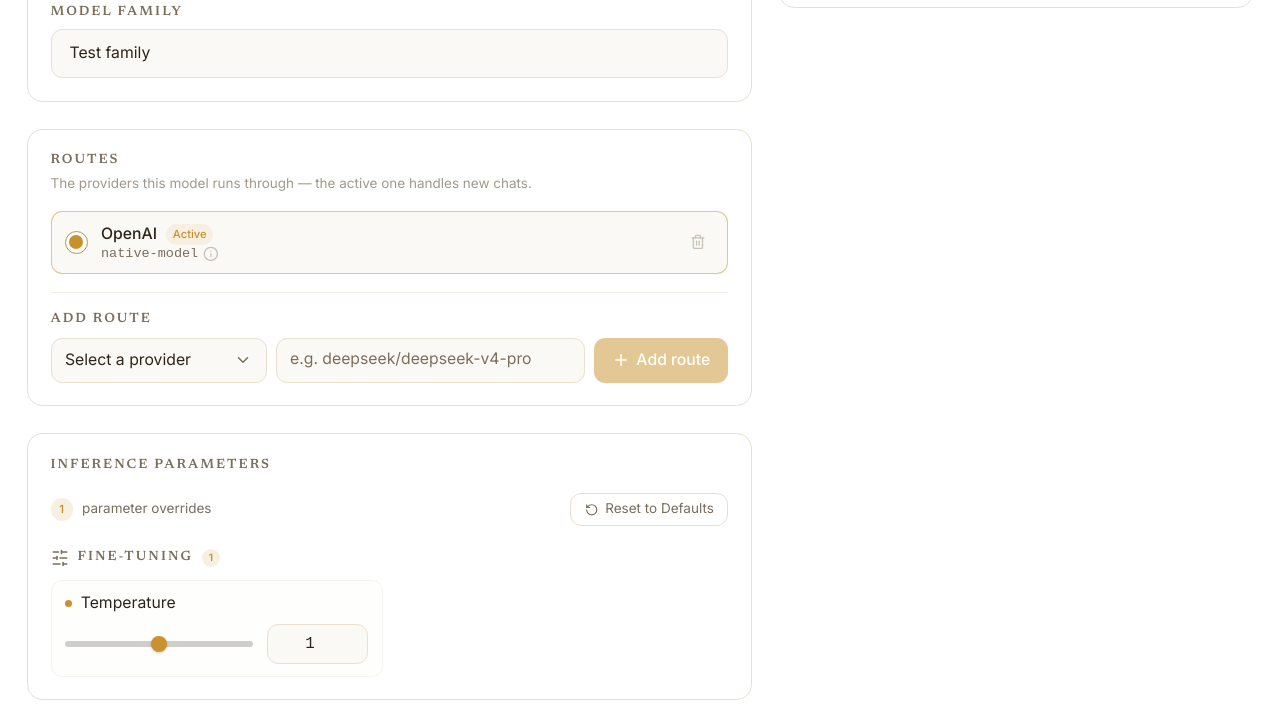
Test: model settings screen › family changes clear an incompatible pending route provider
(page scrolled)
Step 1. Click the button "Select a provider" → click(158, 360), box 50,338 -> 266,383
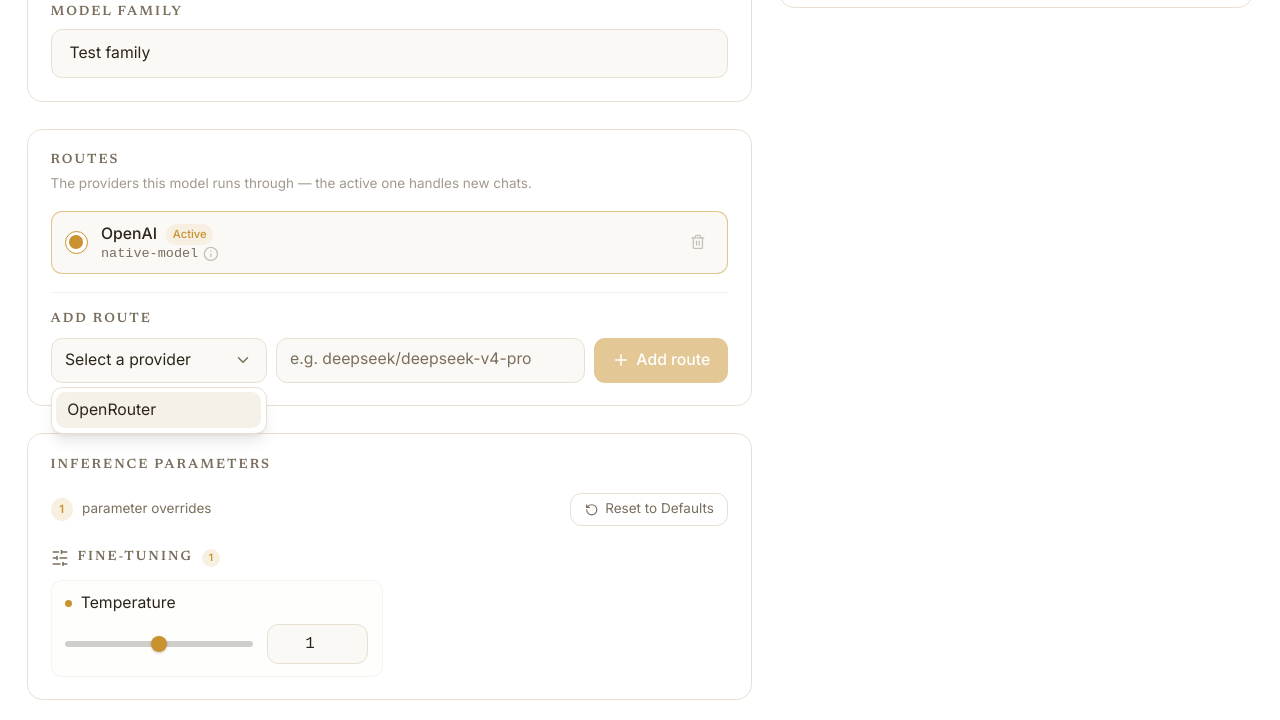
Step 2. Click the option "OpenRouter" → click(158, 410), box 56,392 -> 261,428
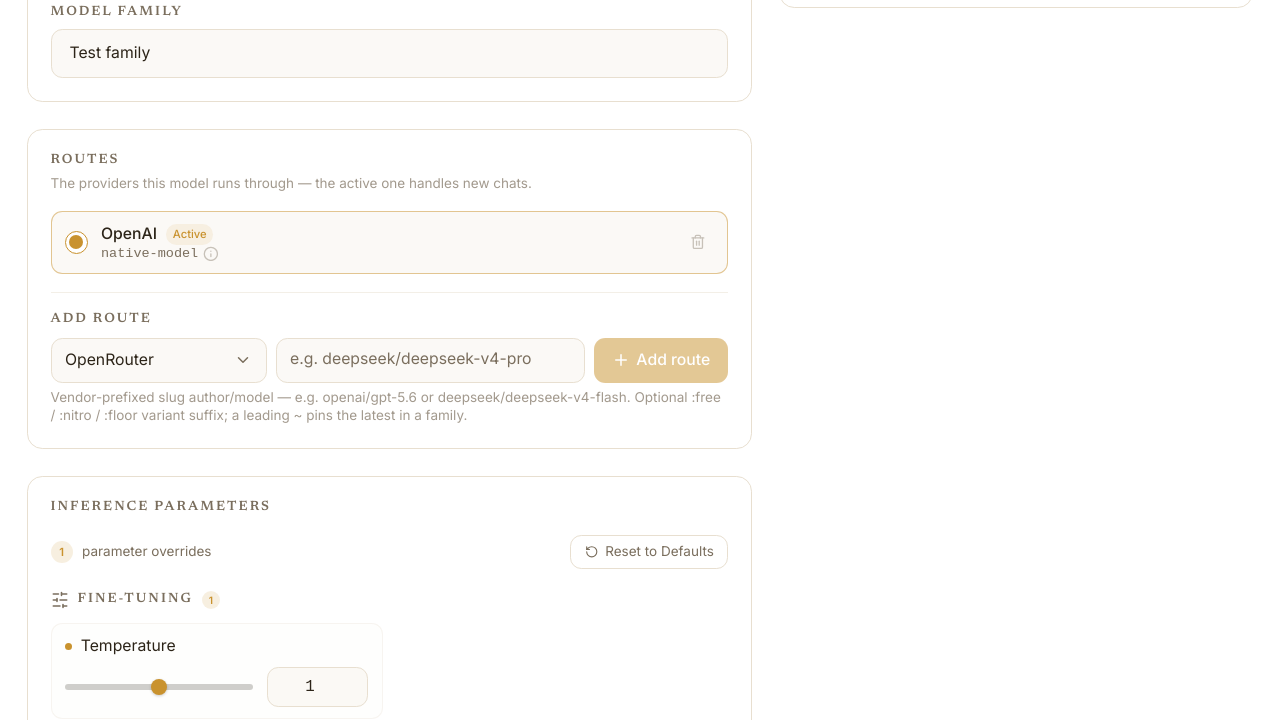
Step 3. Type "vendor/model" into the field with placeholder "e.g. deepseek/deepseek-v4-pro" → (430, 360), box 276,338 -> 585,383
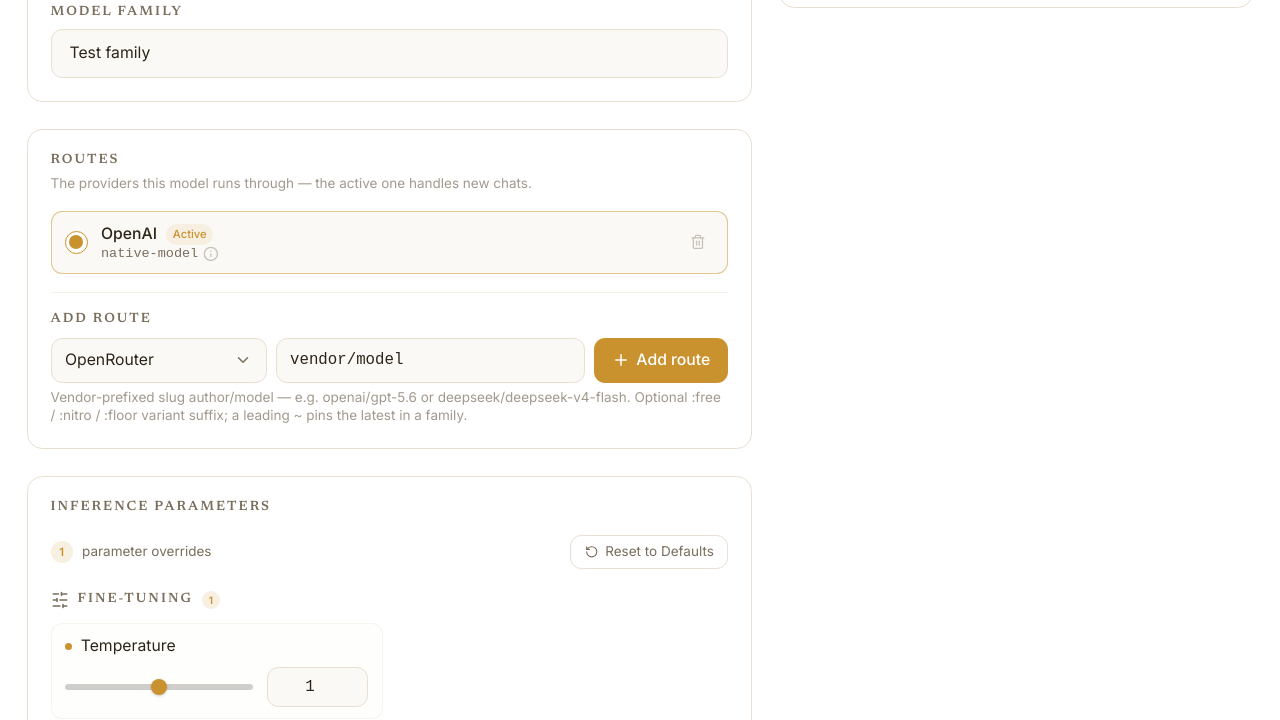
expect the button "Add route" is enabled: met, box 594,338 -> 728,383
Step 4. Click the button "Test family" → click(110, 53), box 50,29 -> 728,78
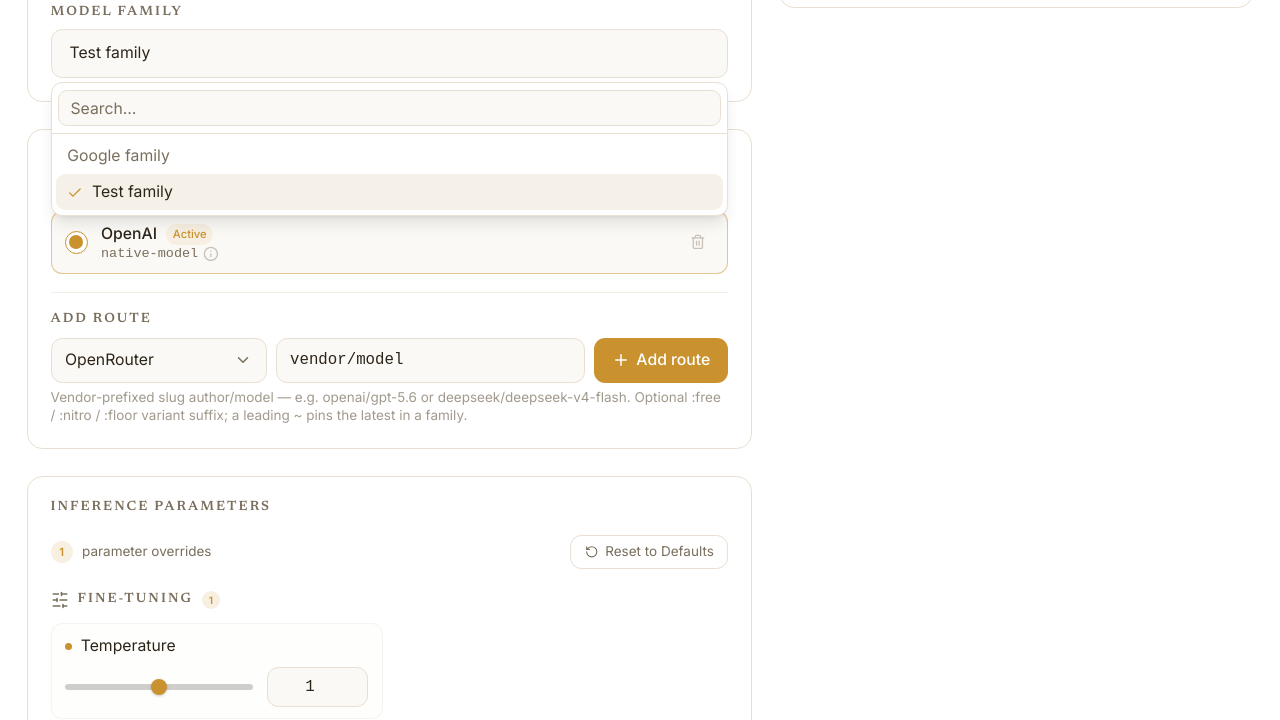
Step 5. Click the option "Google family" → click(119, 156), box 67,146 -> 170,165
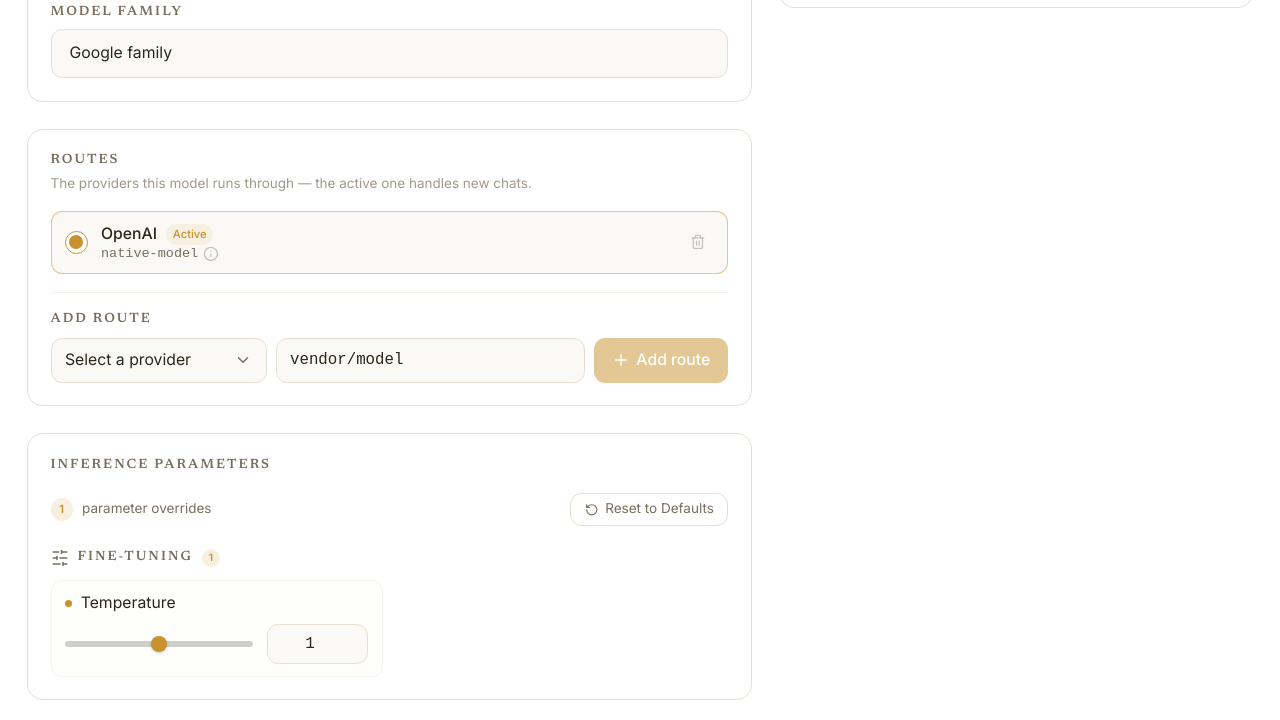
expect the button "Add route" is disabled: met, box 594,338 -> 728,383
